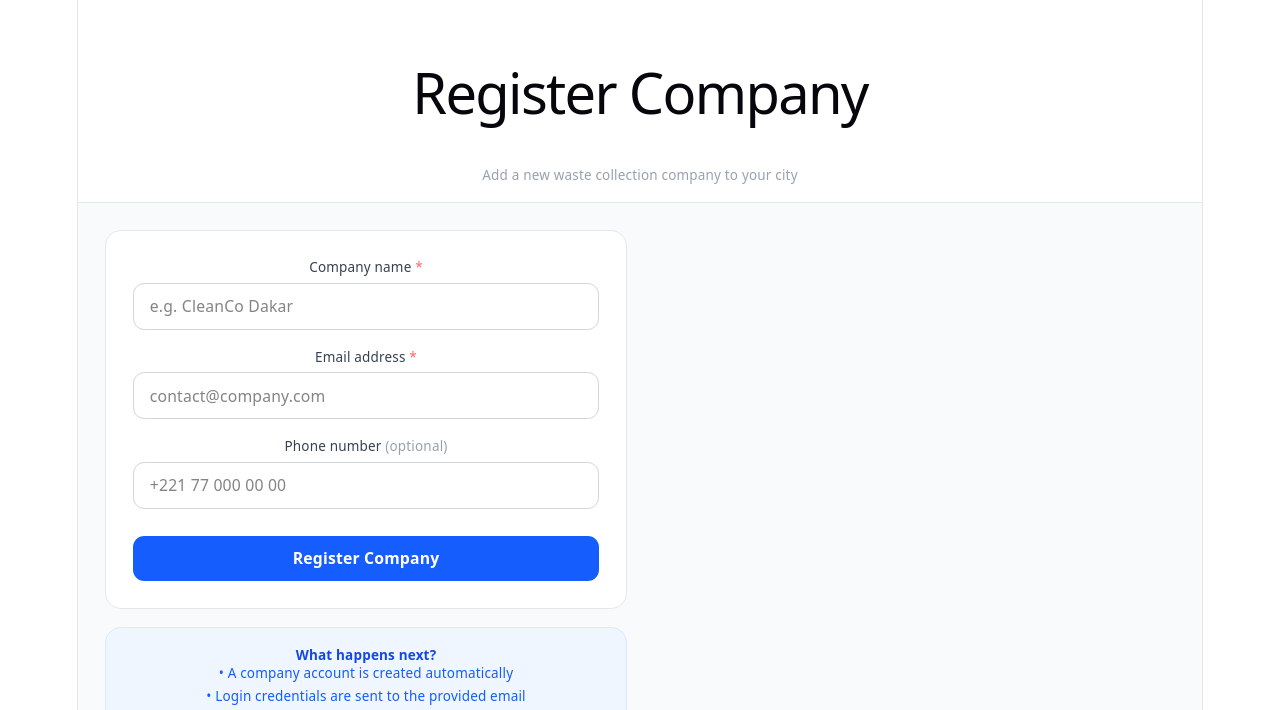
CompanyRegistrationPage — US-M08 company registration › shows success panel with company details after registration
Type "CleanCo Dakar" into the field with test id "input-name" at [366, 306], box x1=133 y1=283 x2=599 y2=330
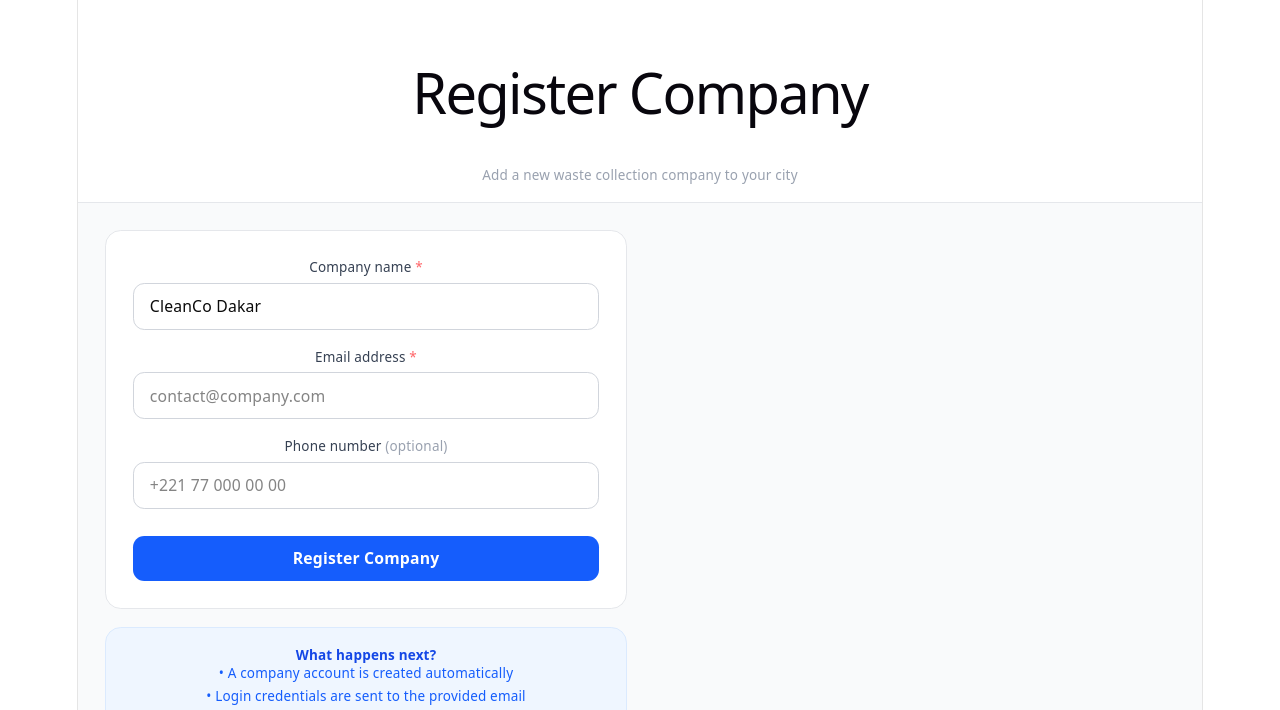
Type "contact@cleanco.sn" into the field with test id "input-email" at [366, 396], box x1=133 y1=372 x2=599 y2=420
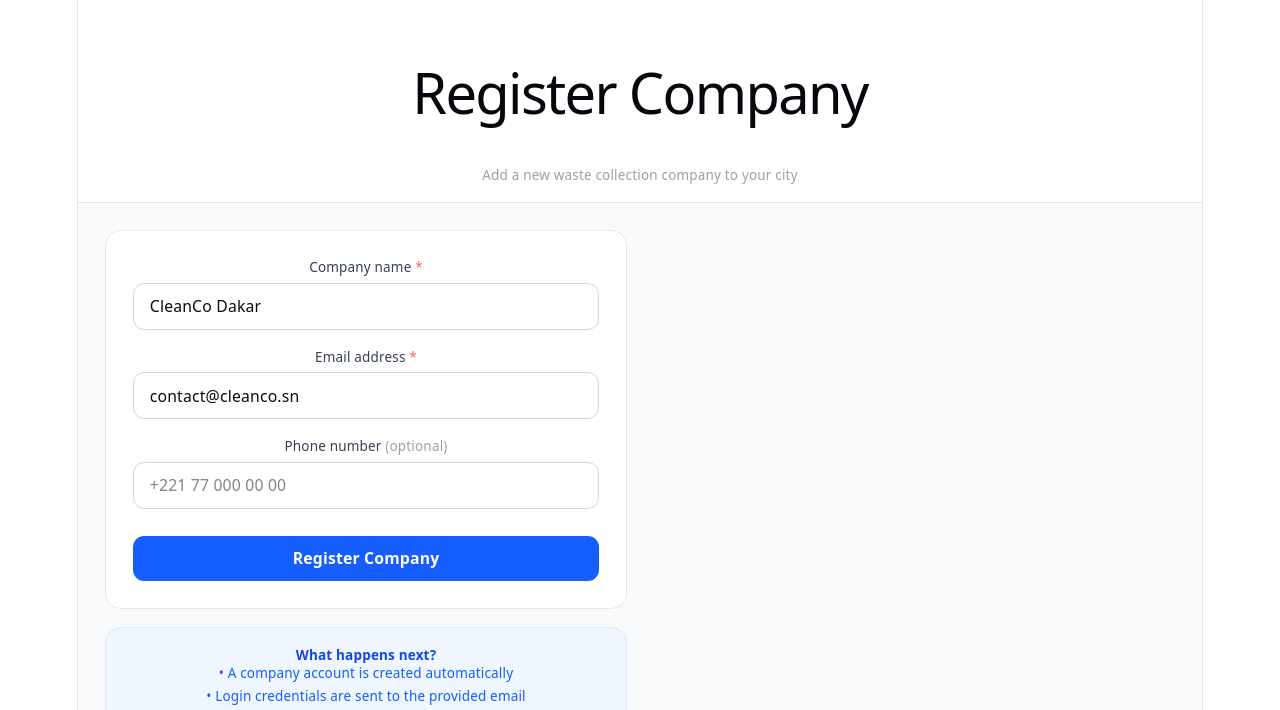
Click the button with test id "btn-submit" at [366, 559], box x1=133 y1=536 x2=599 y2=581
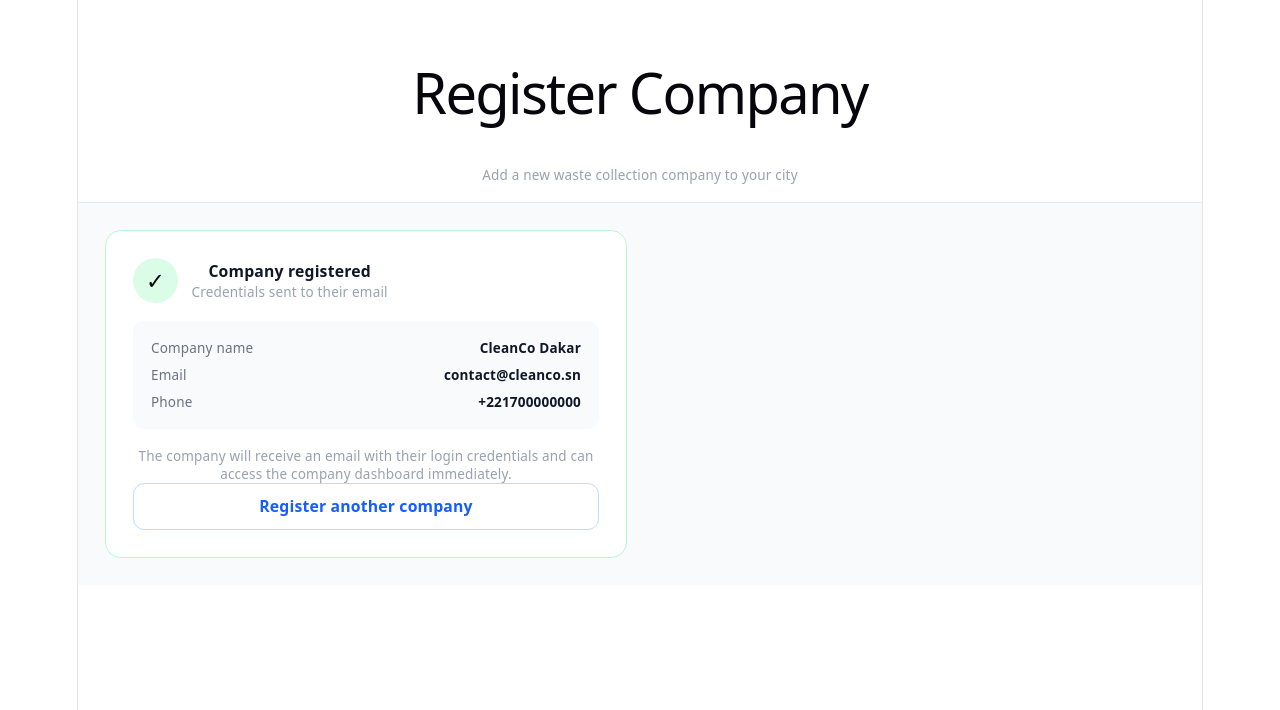
Result: the element with test id "success-panel" is shown at x1=105 y1=230 x2=627 y2=558
Result: the element with test id "success-panel" shows "CleanCo Dakar" at x1=480 y1=339 x2=581 y2=357
Result: the element with test id "success-panel" shows "contact@cleanco.sn" at x1=444 y1=366 x2=581 y2=384
